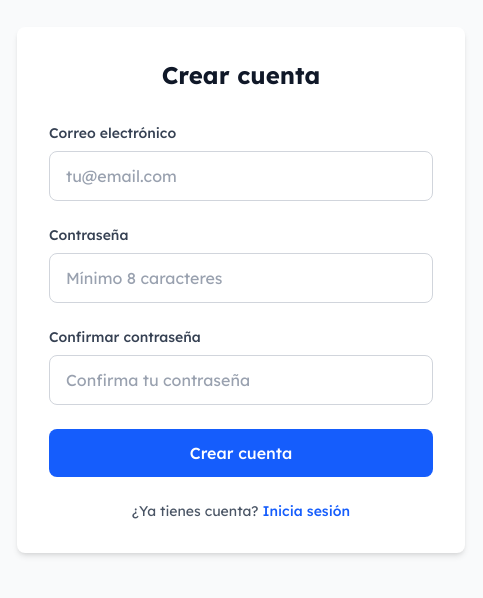
Scenario: RegisterPage › displays validation error for short password
Type "test@example.com" into the field labelled "Correo electrónico". click: x=241, y=176
box: [49,151,433,201]
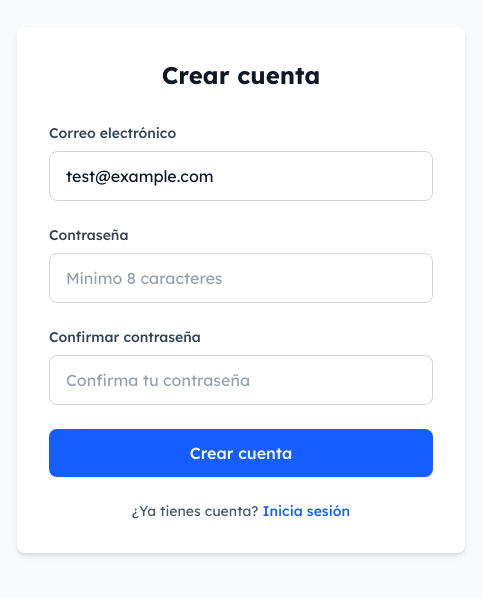
Type "short" into the password field labelled "Contraseña". click: x=241, y=278
box: [49,253,433,303]
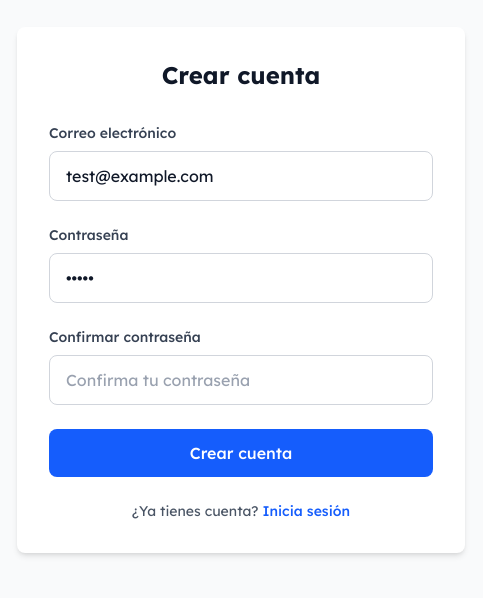
Click the button "Crear cuenta". click: x=241, y=453
box: [49,429,433,477]
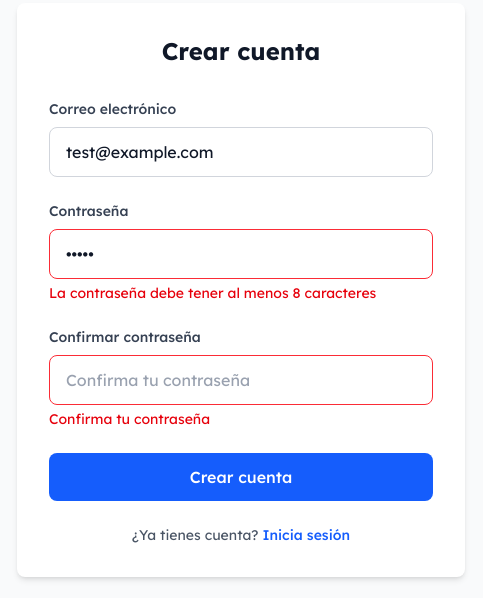
Result: the text "La contraseña debe tener al menos 8 caracteres" is shown at [49,283,433,303]
